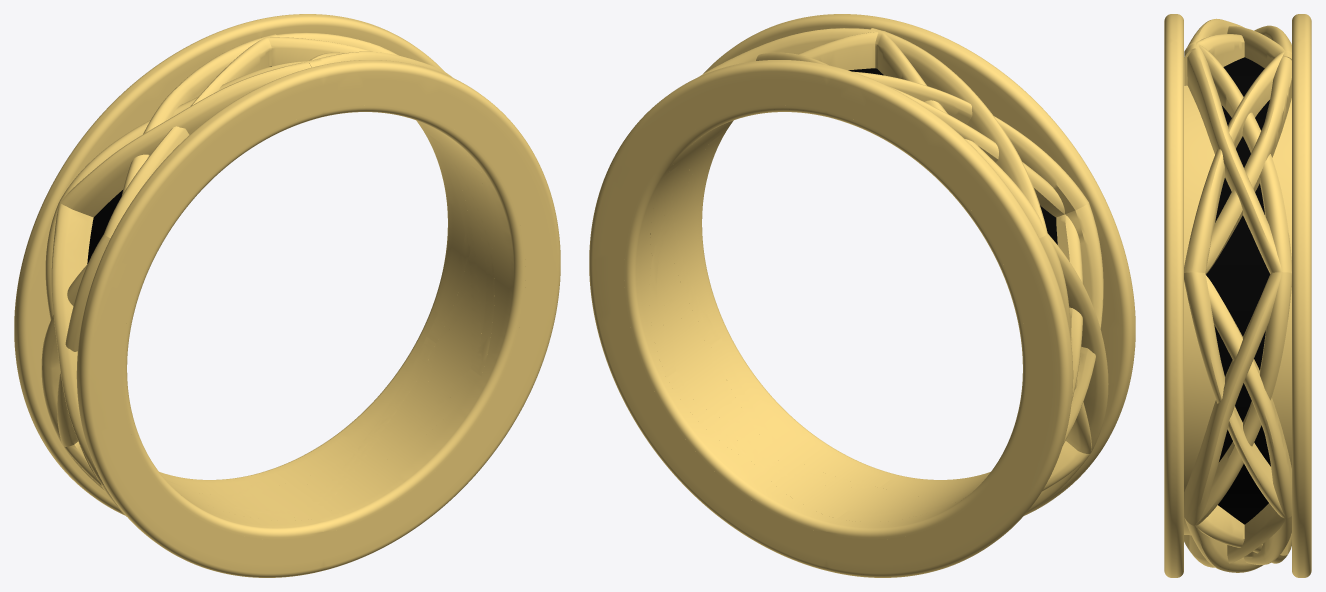
Rendered from Ryan_Mc_YG_blender.glb.
3 renders of one model, left to right at view 1: azimuth 30°, elevation 25°; view 2: azimuth 150°, elevation 25°; view 3: azimuth 270°, elevation 25°, orthographic.
Visible parts, largest first — view 1: Ryan Mc YG for 3d model, Ryan Mc color it for 3d model; view 2: Ryan Mc YG for 3d model; view 3: Ryan Mc YG for 3d model, Ryan Mc color it for 3d model.
Boxes of the visible parts, bbox=[...] form: Ryan Mc YG for 3d model: bbox=[14, 14, 560, 577]; Ryan Mc color it for 3d model: bbox=[87, 66, 271, 263]; Ryan Mc YG for 3d model: bbox=[589, 14, 1135, 577]; Ryan Mc YG for 3d model: bbox=[1164, 14, 1311, 577]; Ryan Mc color it for 3d model: bbox=[1206, 57, 1270, 524].
Bounding box in the file's own units: 22.99 × 22.99 × 6.
